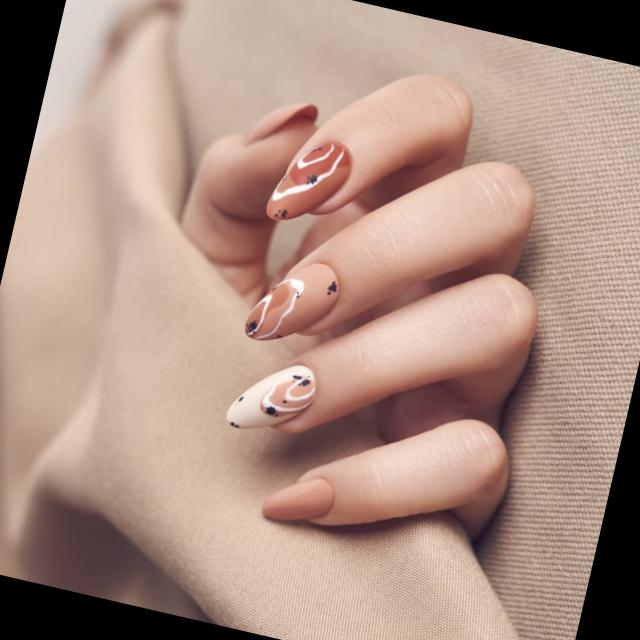Nail: (244, 261, 339, 339), (266, 140, 351, 219), (226, 364, 316, 428), (244, 102, 317, 143), (263, 477, 333, 519)
